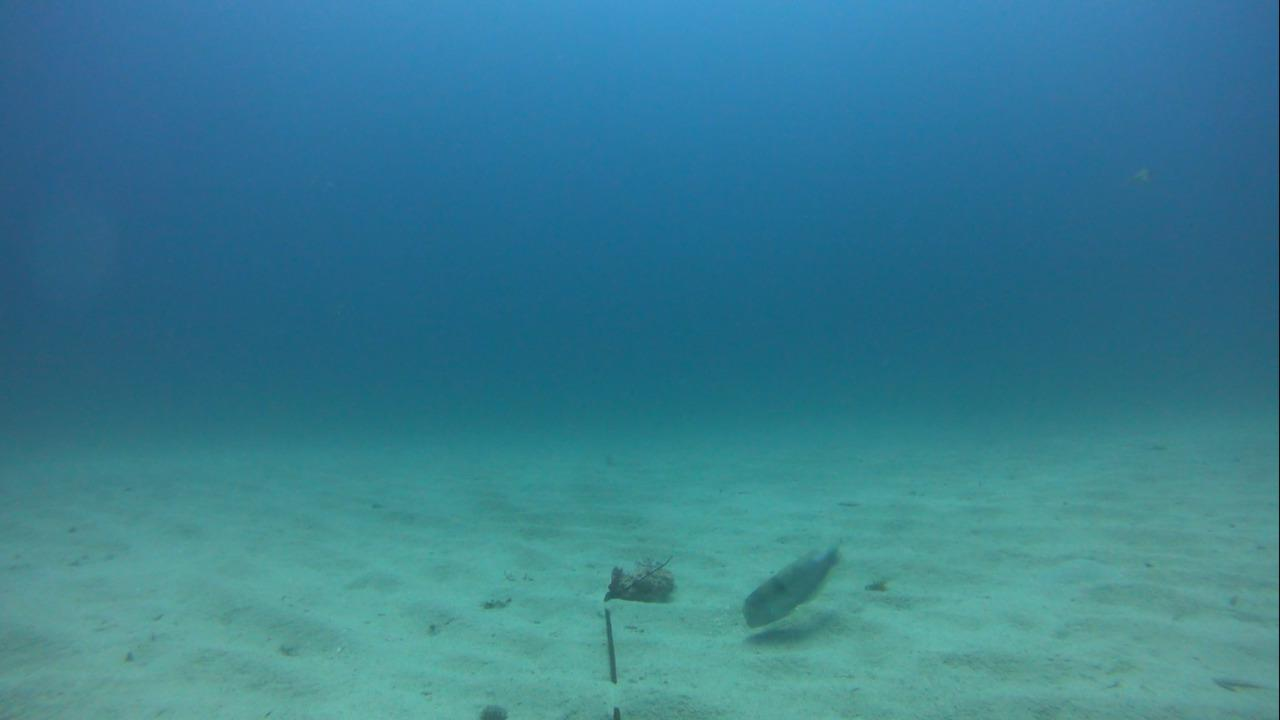raor: (739, 545, 846, 630)
